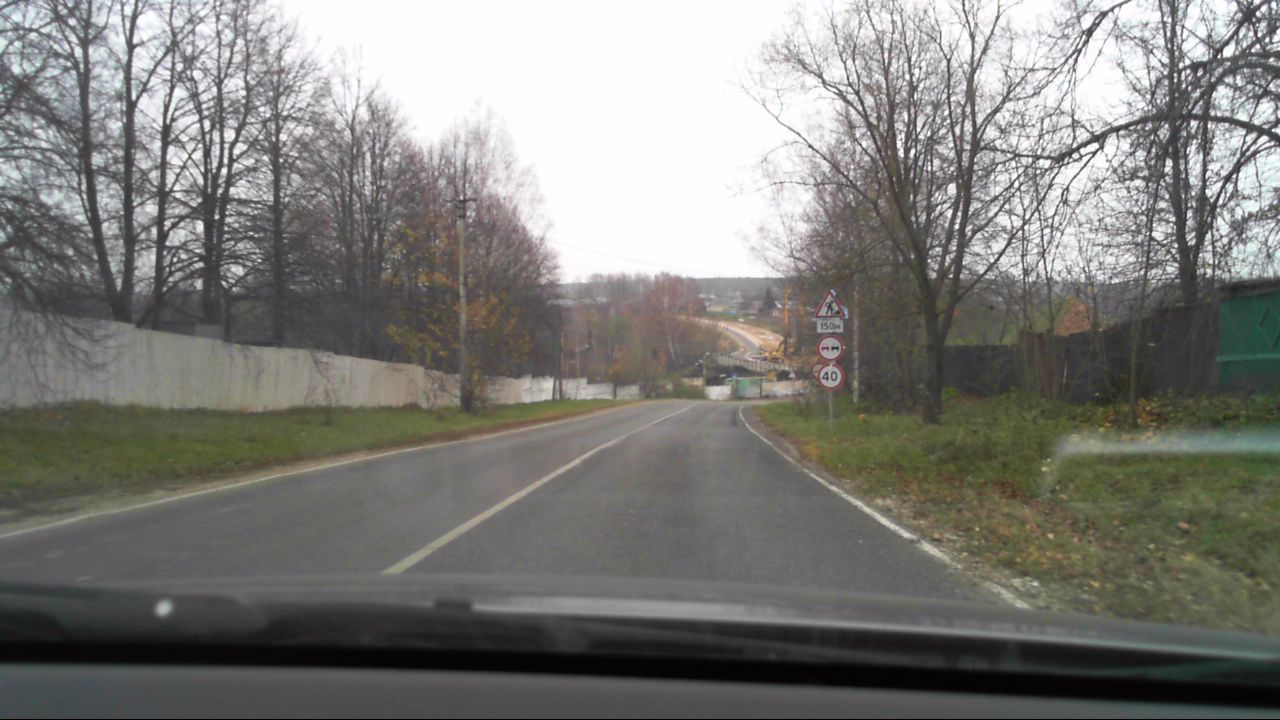speed_warning_40: (818, 362, 842, 388)
